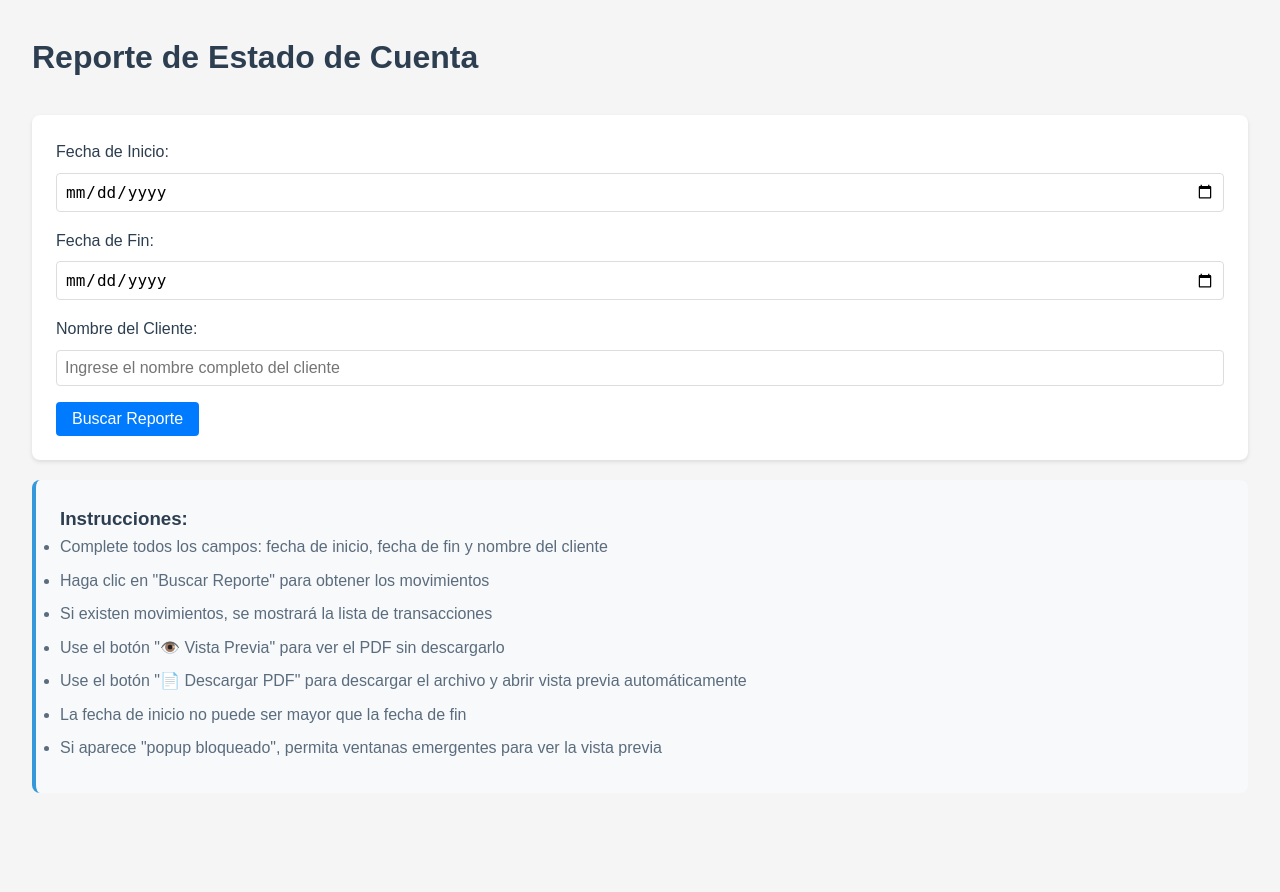
TransactionReport › should handle invalid base64 format in PDF download
In the date field labelled "Fecha de Inicio:": (640, 192) x1=56 y1=173 x2=1224 y2=212, type "2025-09-01"
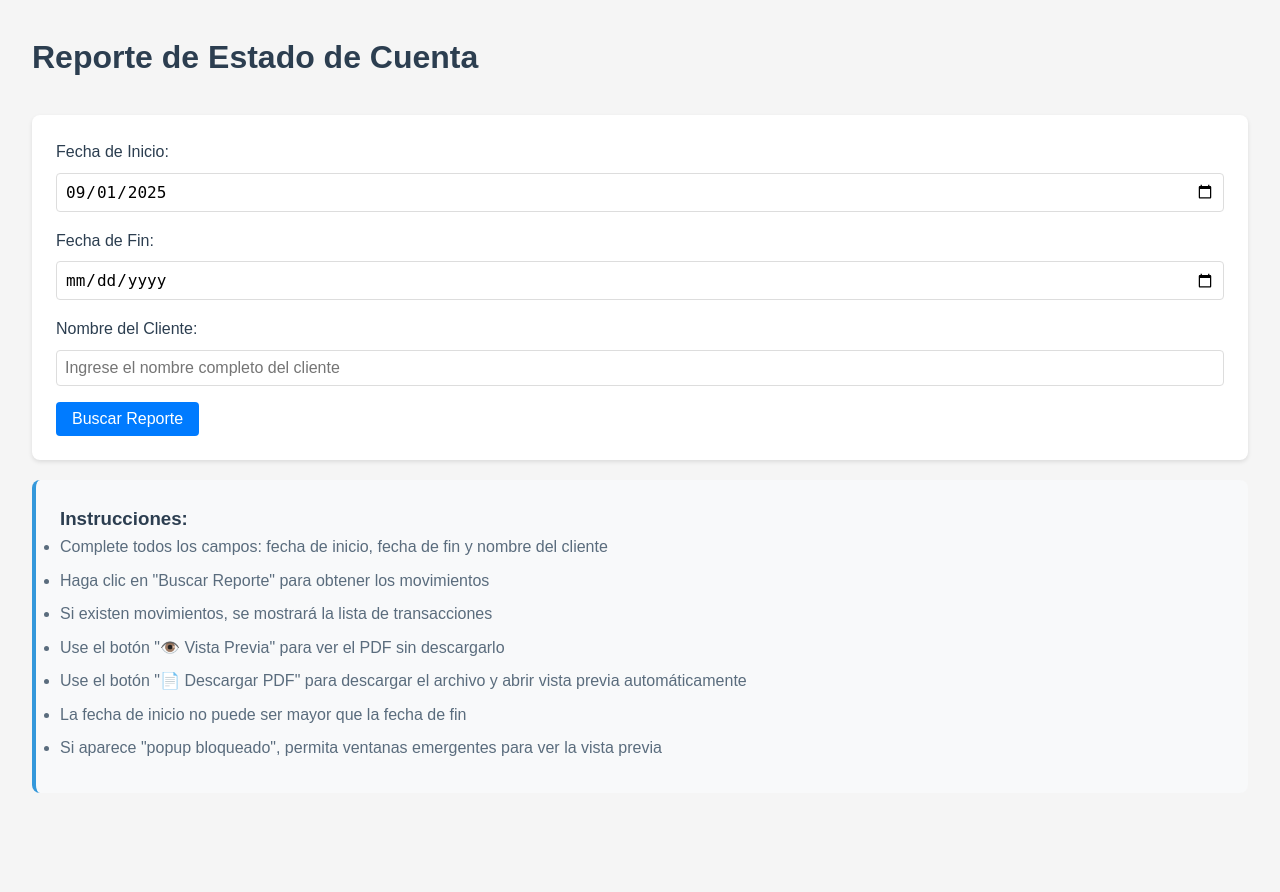
In the date field labelled "Fecha de Fin:": (640, 281) x1=56 y1=261 x2=1224 y2=300, type "2025-09-29"
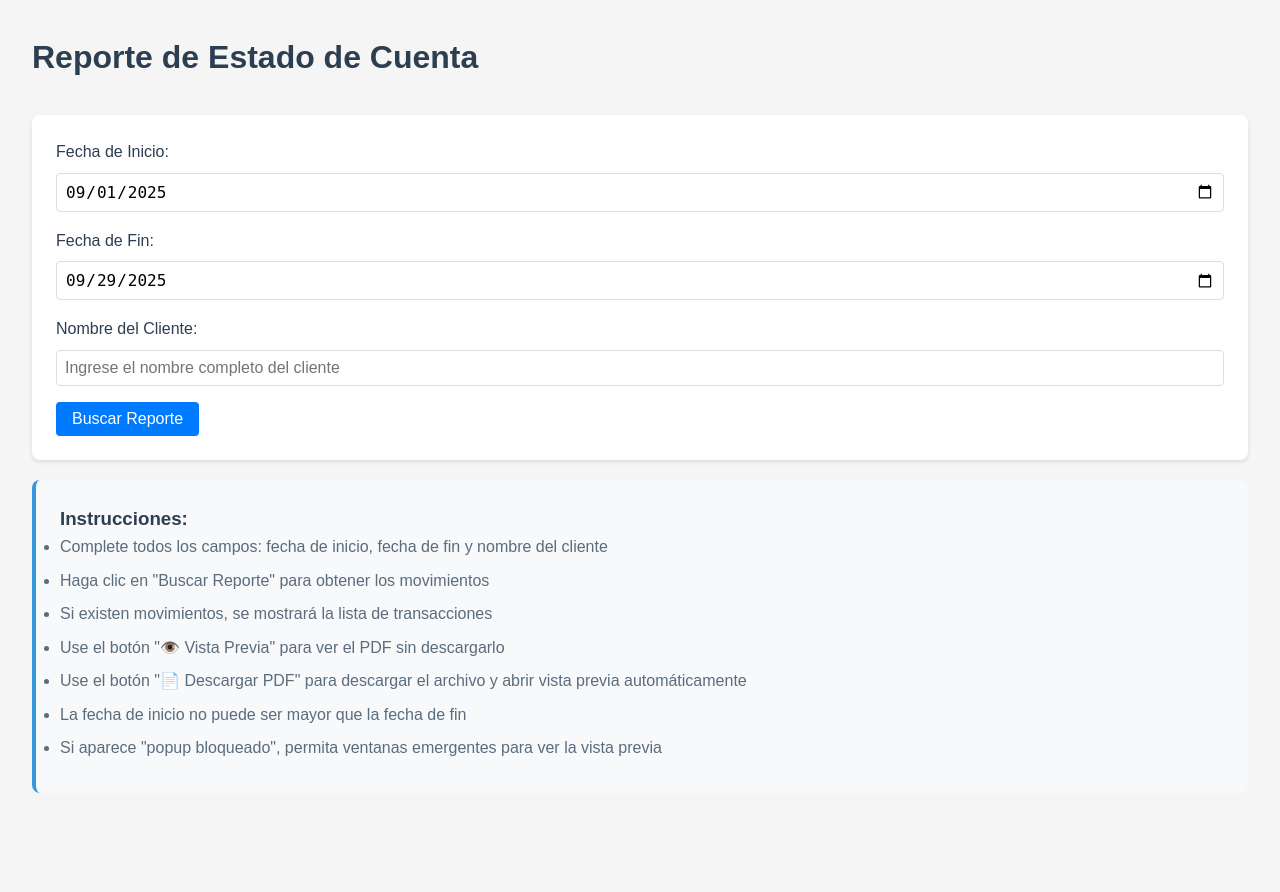
In the field labelled "Nombre del Cliente:": (640, 368) x1=56 y1=350 x2=1224 y2=386, type "Jose Lema"
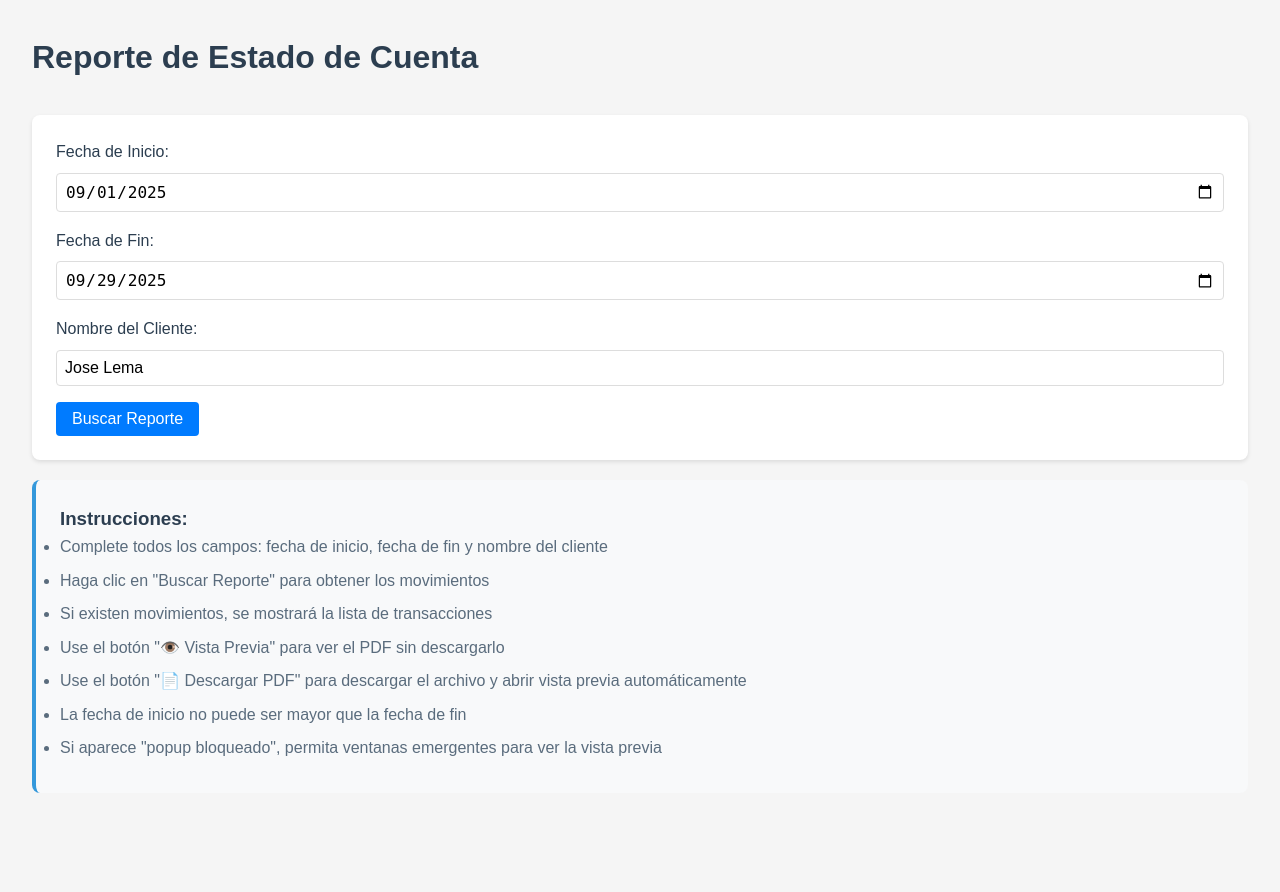
Click the button "Buscar Reporte": (128, 419) x1=56 y1=402 x2=199 y2=436
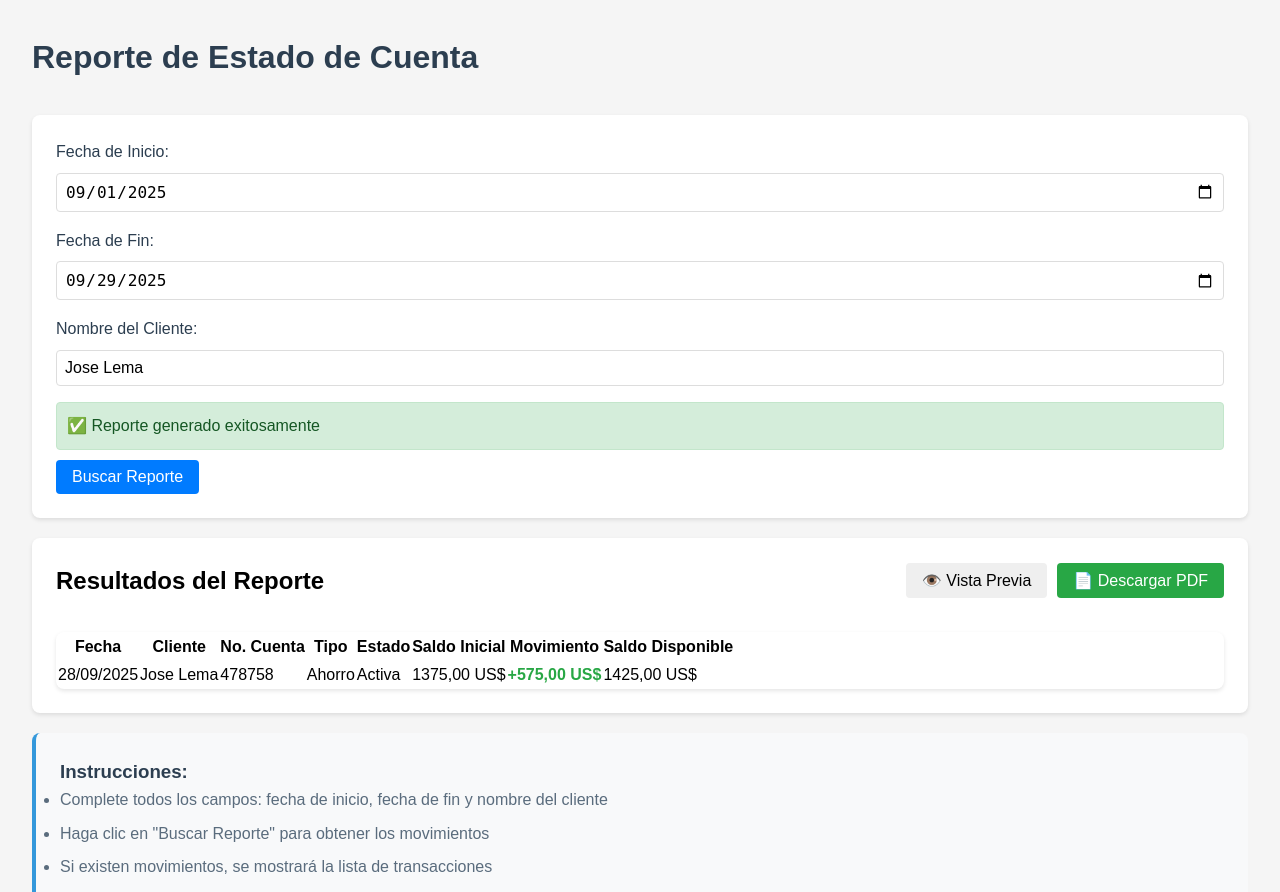
Result: the heading "Resultados del Reporte" is shown at x1=56 y1=562 x2=324 y2=600
Try to download with invalid base64
Click the button "📄 Descargar PDF": (1141, 581) x1=1057 y1=563 x2=1224 y2=598
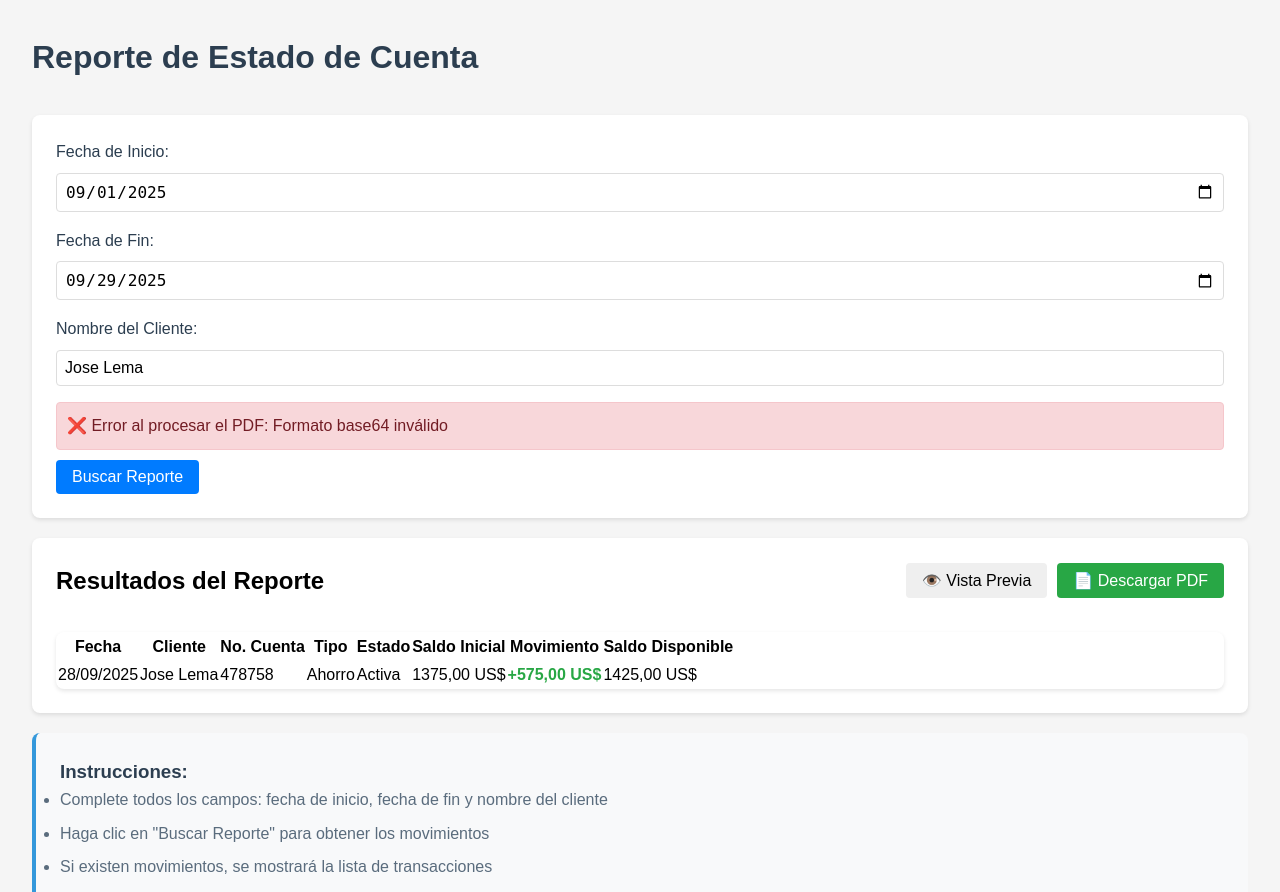
Result: the text "❌ Error al procesar el PDF: Formato base64 inválido" is shown at x1=56 y1=402 x2=1224 y2=450
